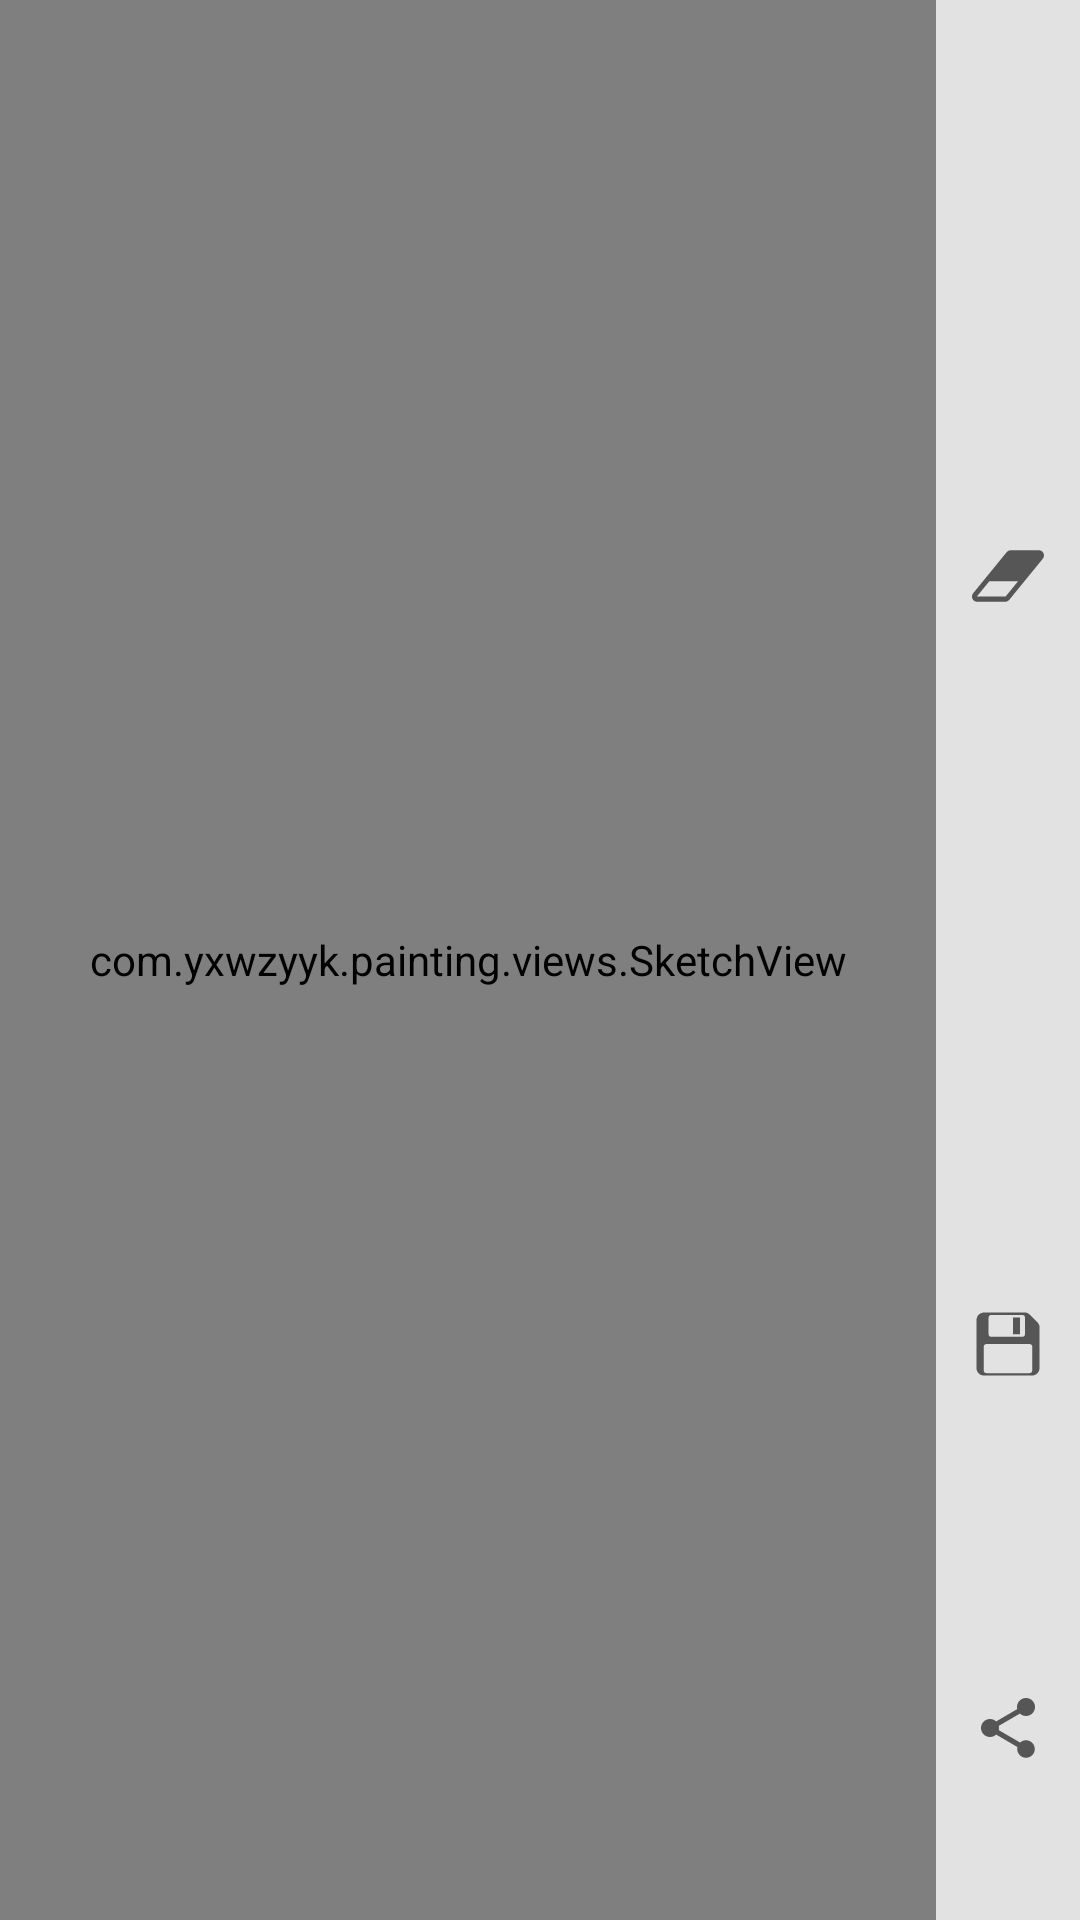

Where to tap for icons on this 1080*1920 app screen, as (x,y):
eraser: (1008,576)
save: (1008,1344)
share: (1008,1728)
